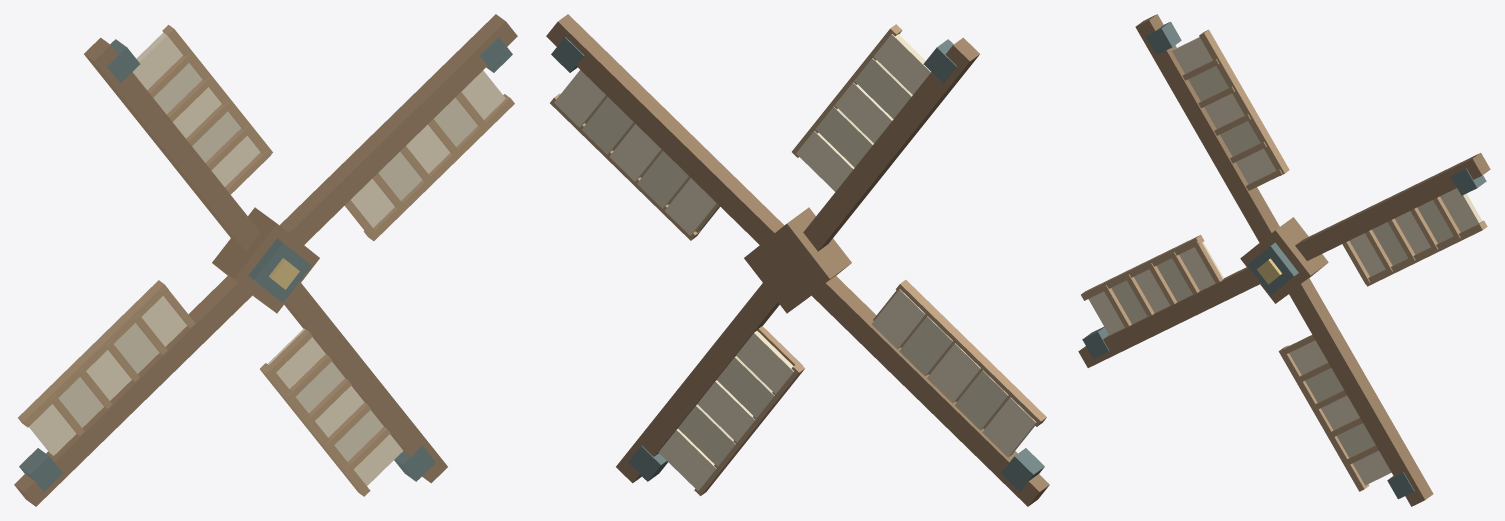
The model's file is LatticeRotor.glb.
3 renders of one model, left to right at view 1: azimuth 30°, elevation 25°; view 2: azimuth 150°, elevation 25°; view 3: azimuth 330°, elevation 25°, orthographic. The views are drawn at different scales.
Parts seen in each view (by area): view 1: LatticeRotor; view 2: LatticeRotor; view 3: LatticeRotor.
Part boxes in pixels (left/top/right/bottom): LatticeRotor: left=14, top=14, right=517, bottom=506; LatticeRotor: left=546, top=14, right=1049, bottom=506; LatticeRotor: left=1078, top=14, right=1490, bottom=506.
Bounding box in the file's own units: 3.73 × 3.73 × 0.402.
